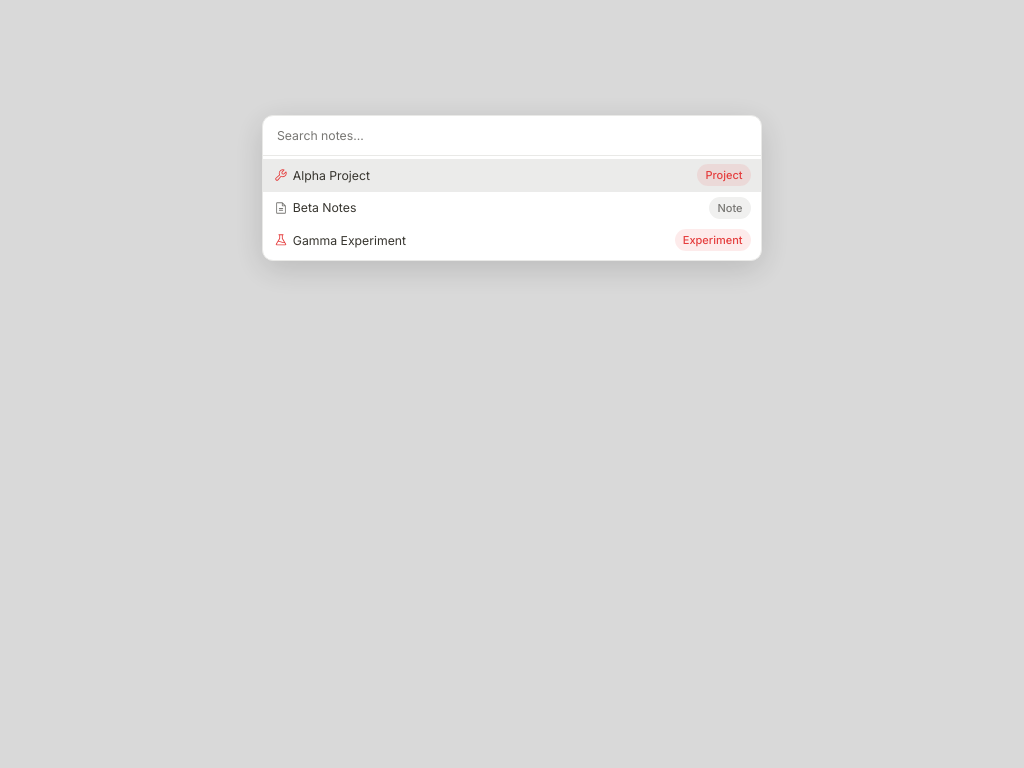
Scenario: QuickOpenPalette › filters entries by fuzzy search
Type "alpha" into the field with placeholder "Search notes..." at (512, 136), box x1=263 y1=116 x2=761 y2=156
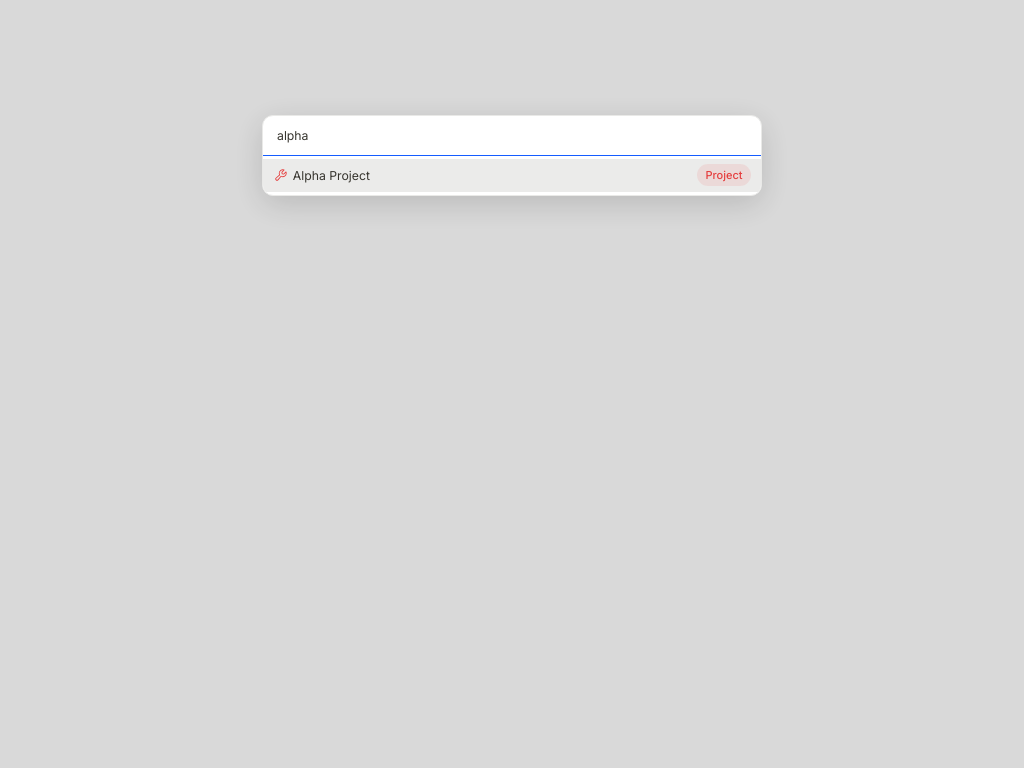
Expected: the text "Alpha Project" is shown, x1=293 y1=167 x2=370 y2=184
Now the text "Beta Notes" is gone
